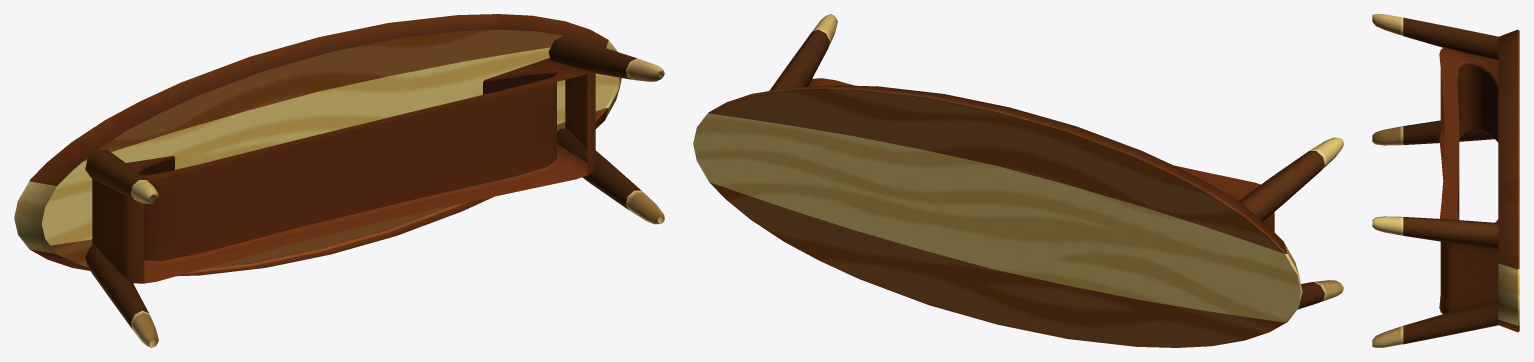
Rendered from CoffeeTable.fbx.
The picture shows the model from 3 angles, left to right: view 1: azimuth 30°, elevation 25°; view 2: azimuth 150°, elevation 25°; view 3: azimuth 270°, elevation 25°; orthographic projection. The views are drawn at different scales.
Visible parts, largest first — view 1: CoffeeTable; view 2: CoffeeTable; view 3: CoffeeTable.
Boxes of the visible parts, x1=… form: CoffeeTable: x1=14, y1=14, x2=664, y2=347; CoffeeTable: x1=693, y1=14, x2=1343, y2=347; CoffeeTable: x1=1372, y1=14, x2=1519, y2=347.
Size of the model in its own units: 139 by 46.87 by 35.18.
